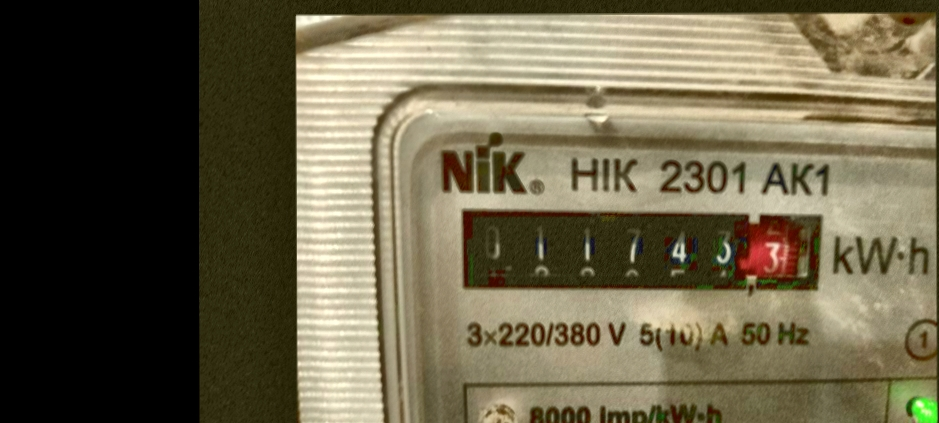0: (480, 224, 502, 264), (530, 223, 548, 264)
1: (577, 224, 593, 265)
3: (712, 227, 732, 270), (760, 239, 780, 278)
4: (667, 227, 687, 267)
7: (620, 224, 643, 268)
screen: (441, 196, 829, 305)
